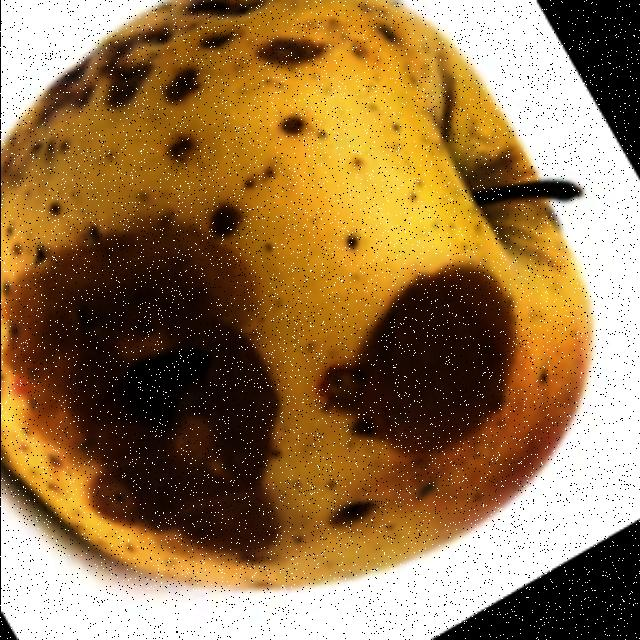Apel Tidak Segar: (1, 1, 604, 602)
